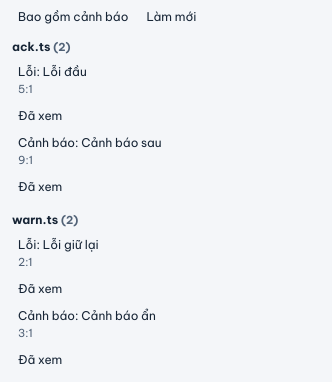
it: DiagnosticsPanel › ẩn và hiện cảnh báo bằng nút toggle
The width and height of the screenshot is (332, 382).
Expected: the text "Cảnh báo: Cảnh báo ẩn" is shown, [18, 308, 156, 323]
Step 1. Click the button "Bao gồm cảnh báo" → (73, 16), box [12, 6, 134, 27]
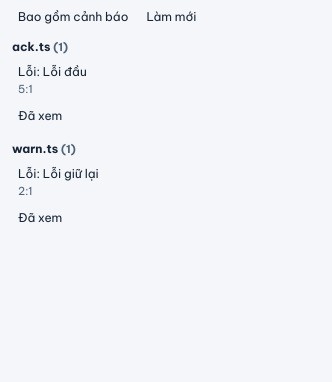
Expected: the text "Lỗi: Lỗi giữ lại" is shown, [18, 166, 99, 181]
Expected: the button "Cảnh báo: Cảnh báo ẩn" is gone
Step 2. Click the button "Bao gồm cảnh báo" → (73, 16), box [12, 6, 134, 27]
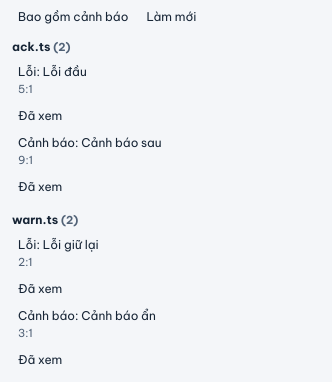
Expected: the text "Cảnh báo: Cảnh báo ẩn" is shown, [18, 308, 156, 323]
